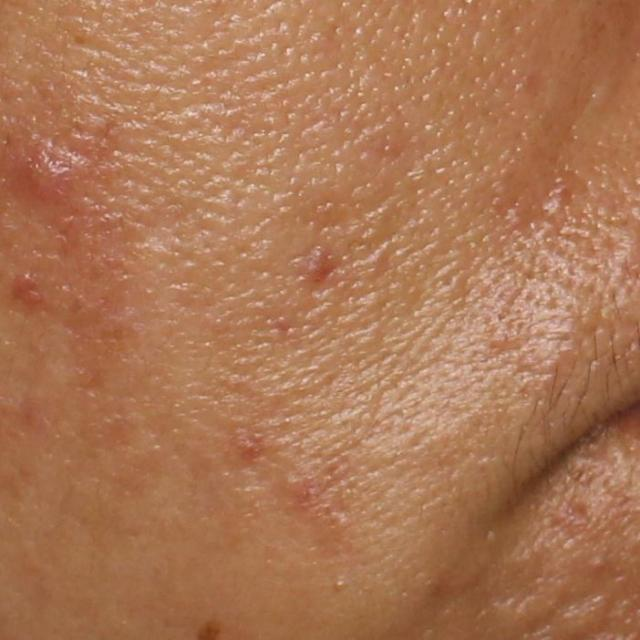nodule: (4, 114, 144, 238)
